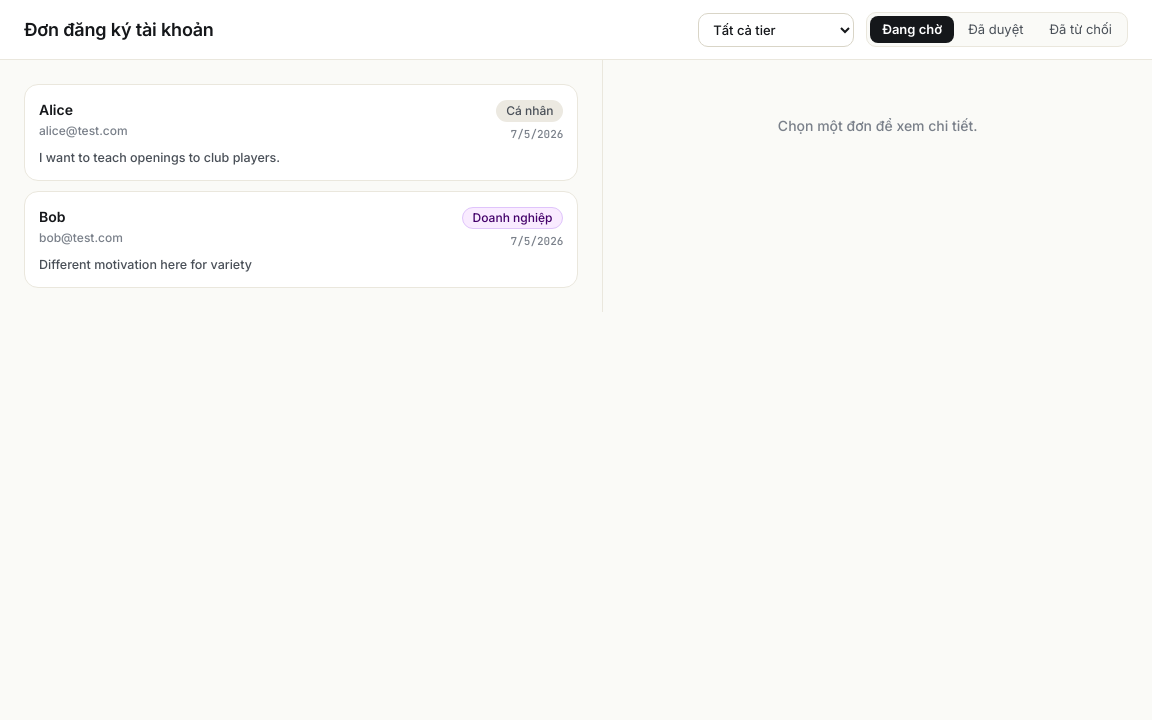
AdminCreatorApplicationsPage › detail pane › shows tier label in detail pane
Click the button with test id "application-row-app-2".
click(81, 238)  # box top-left (24, 191), bottom-right (578, 288)
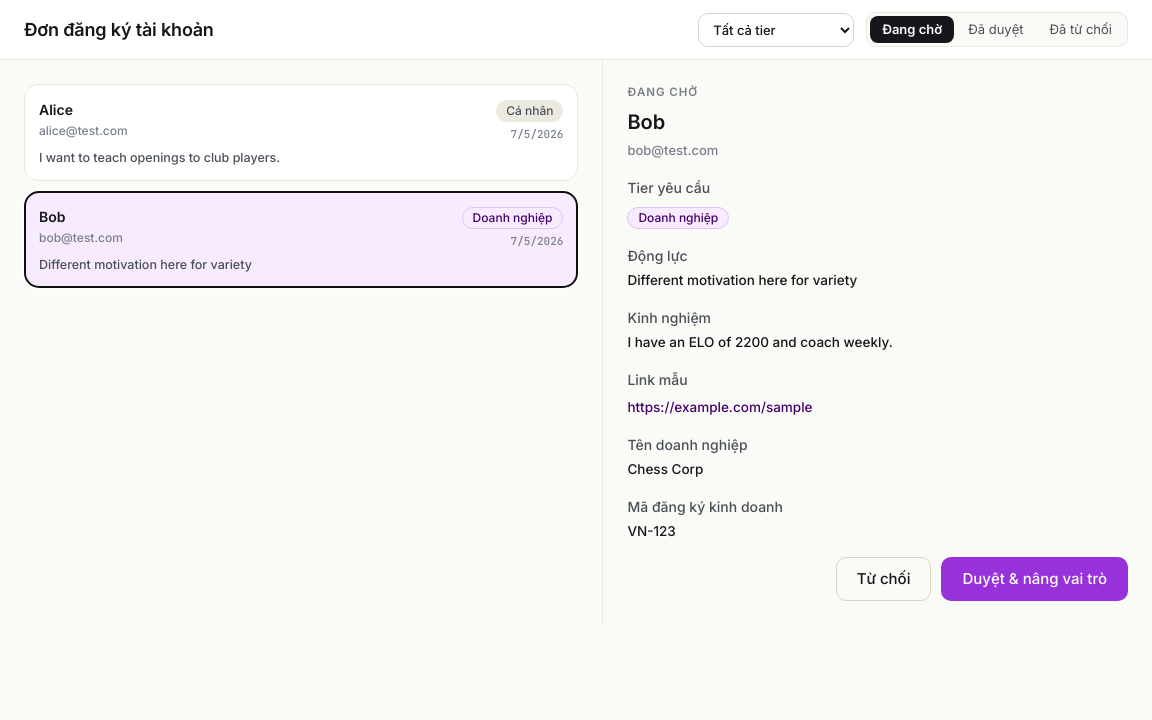
Result: the element with test id "application-detail" is shown at top-left (627, 84), bottom-right (1128, 601)
Result: the element with test id "application-detail" shows "Doanh nghiệp" at top-left (638, 210), bottom-right (718, 225)
